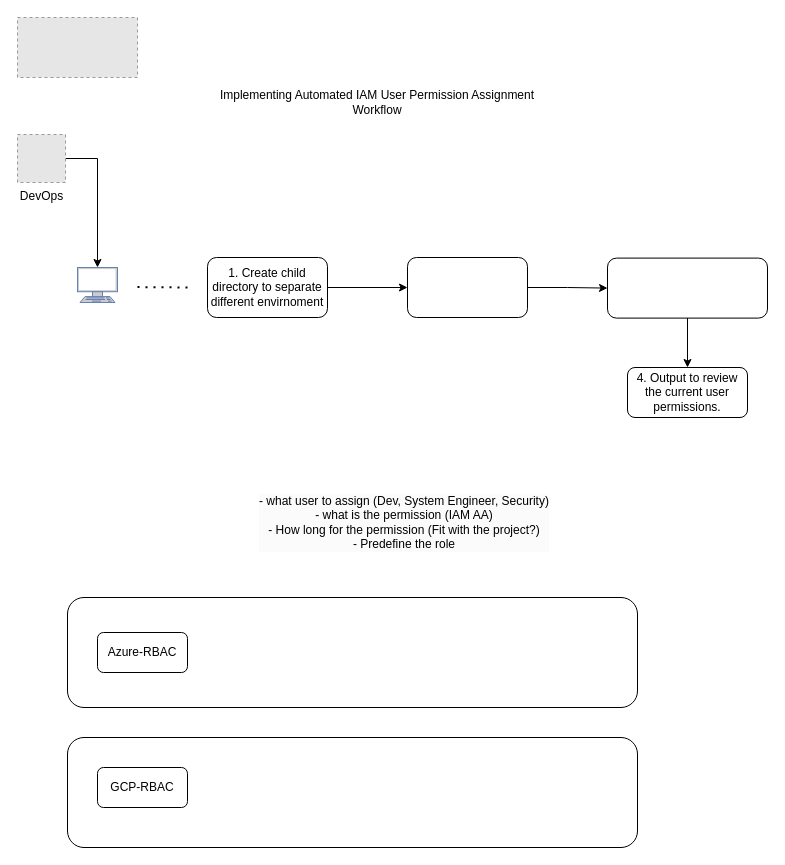
This 785x865 diagram has some shape labels left out. Grey dashed boxes stand in for pictures. The shapes that lost their labels are listed below. From the top down, each one's centre as x and y in pixels, then its label:
[97,284]: Infrastructure as Code (IaC)
[467,287]: 2. Plan Create a ".tf" HCL file with the defined policy.
[687,287]: 3. Apply the change by Terraform to Attaches a Managed IAM Policy to an IAM user
